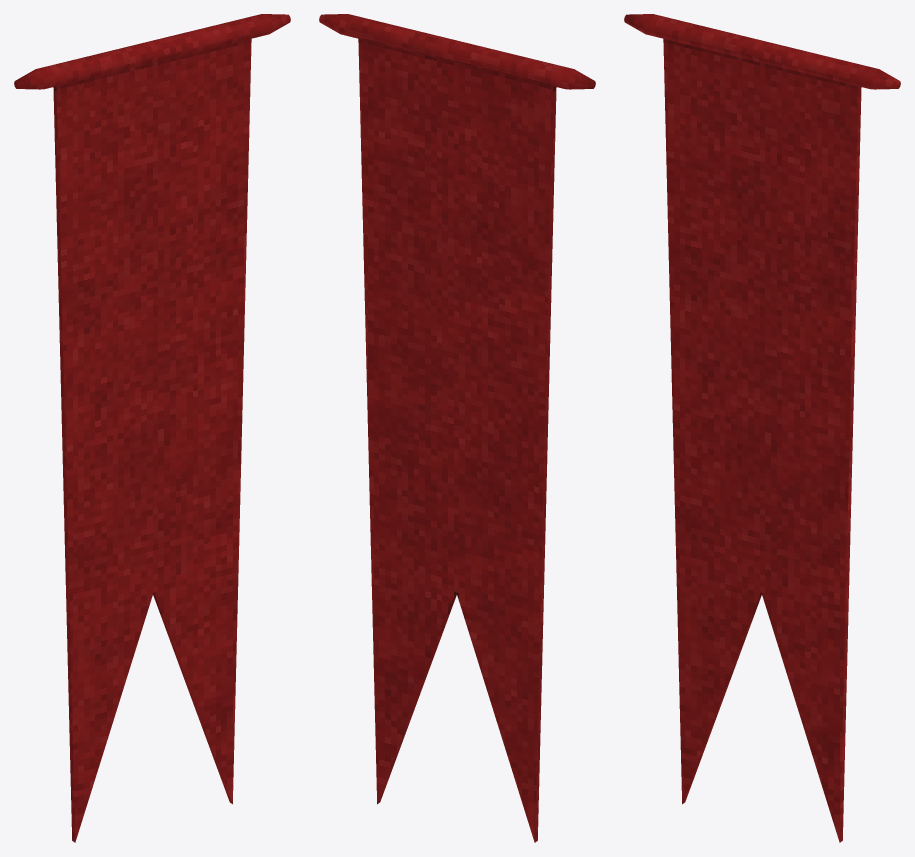
File: Banner_2.gltf
3 renders of one model, left to right at view 1: azimuth 30°, elevation 25°; view 2: azimuth 150°, elevation 25°; view 3: azimuth 330°, elevation 25°, orthographic.
Visible parts, largest first — view 1: Banner_2; view 2: Banner_2; view 3: Banner_2.
Part boxes in pixels (<box>): Banner_2: <box>14,14,290,842</box>; Banner_2: <box>319,14,595,842</box>; Banner_2: <box>624,14,900,842</box>.
Bounding box in the file's own units: 2.79 × 7.65 × 0.2004.
Materials: 1 (1 with a texture image).
